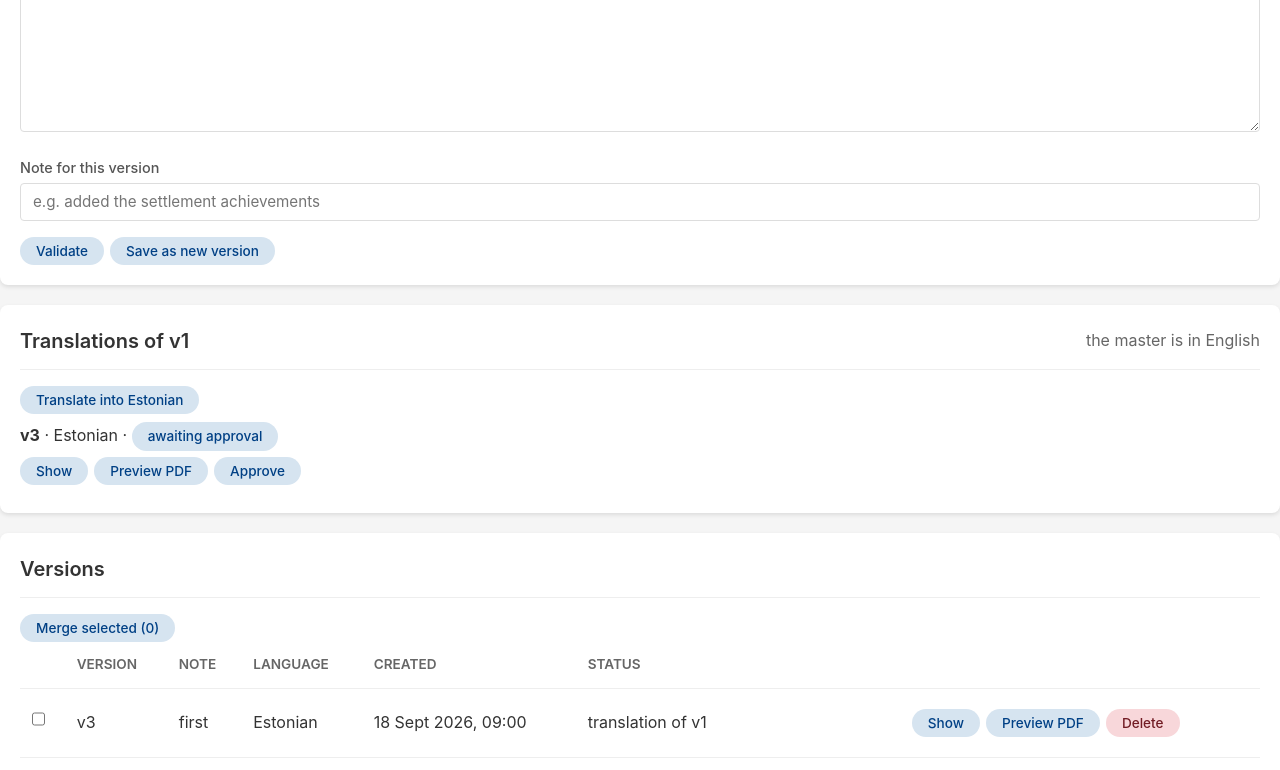
Test: MasiCv › translations › says why a translation could not start and why an approval was refused
This screenshot has width=1280, height=770.
(page scrolled)
Step 1. Click the button "Translate into Estonian" → (110,400), box [20,386,199,414]
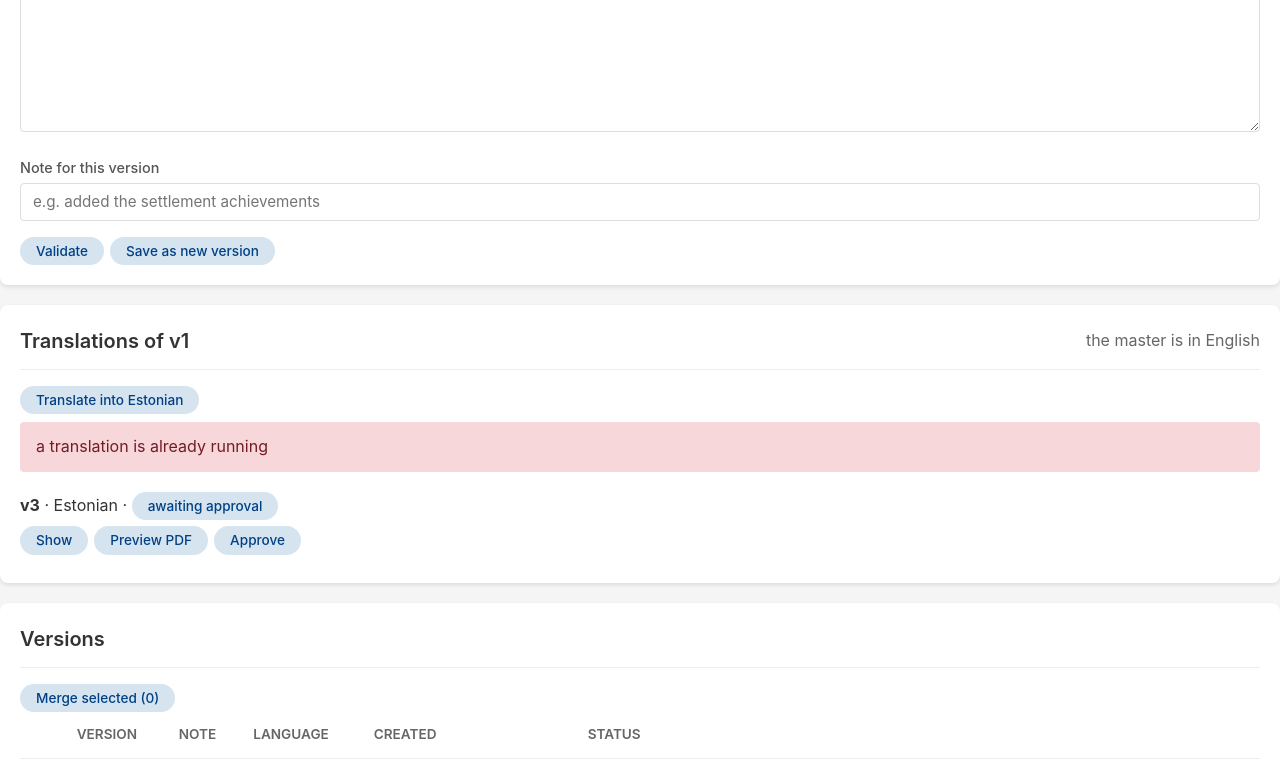
Expected: the message reads "a translation is already running", [36,436,268,456]
Step 2. Click the button "Approve" → (258,540), box [214,526,301,554]
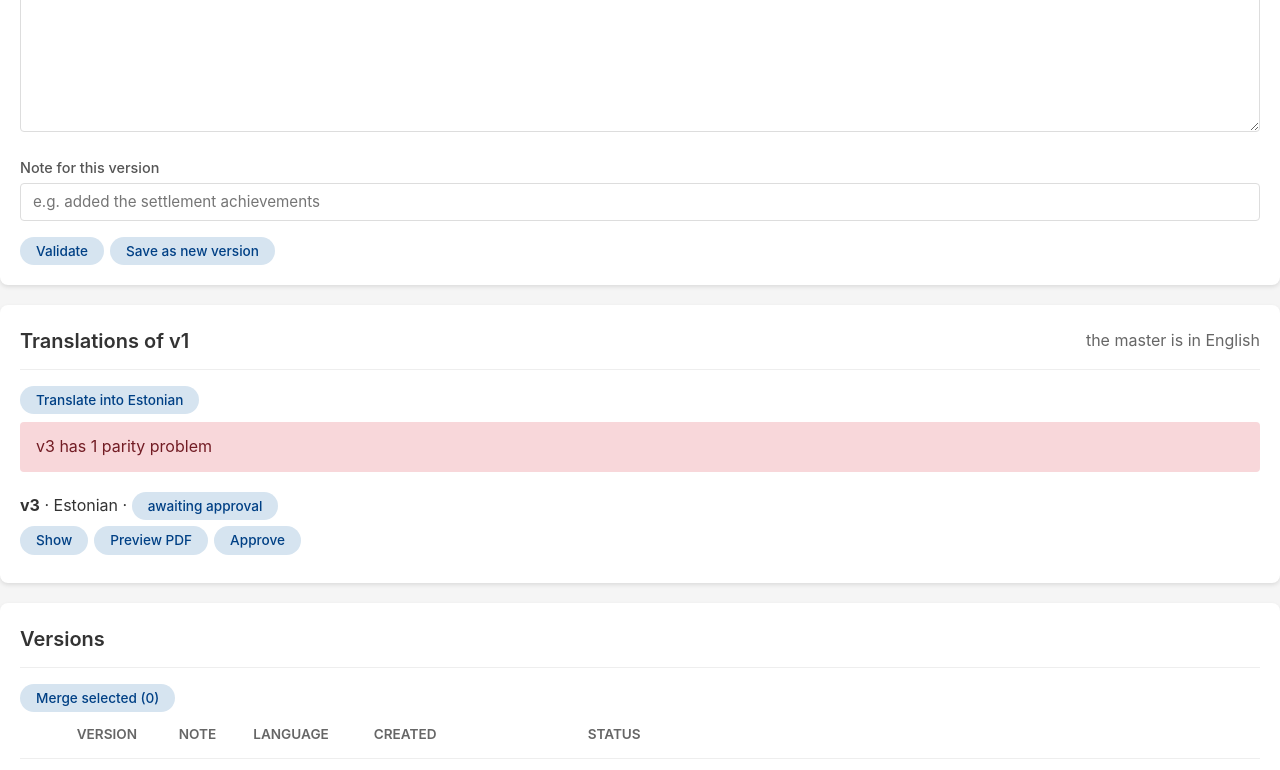
Expected: the message reads "v3 has 1 parity problem", [36,436,212,456]
